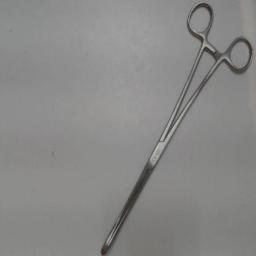Sponge Forceps: (96, 0, 256, 256)
